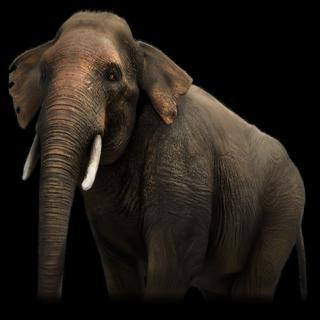Elephant: (6, 5, 310, 305)
